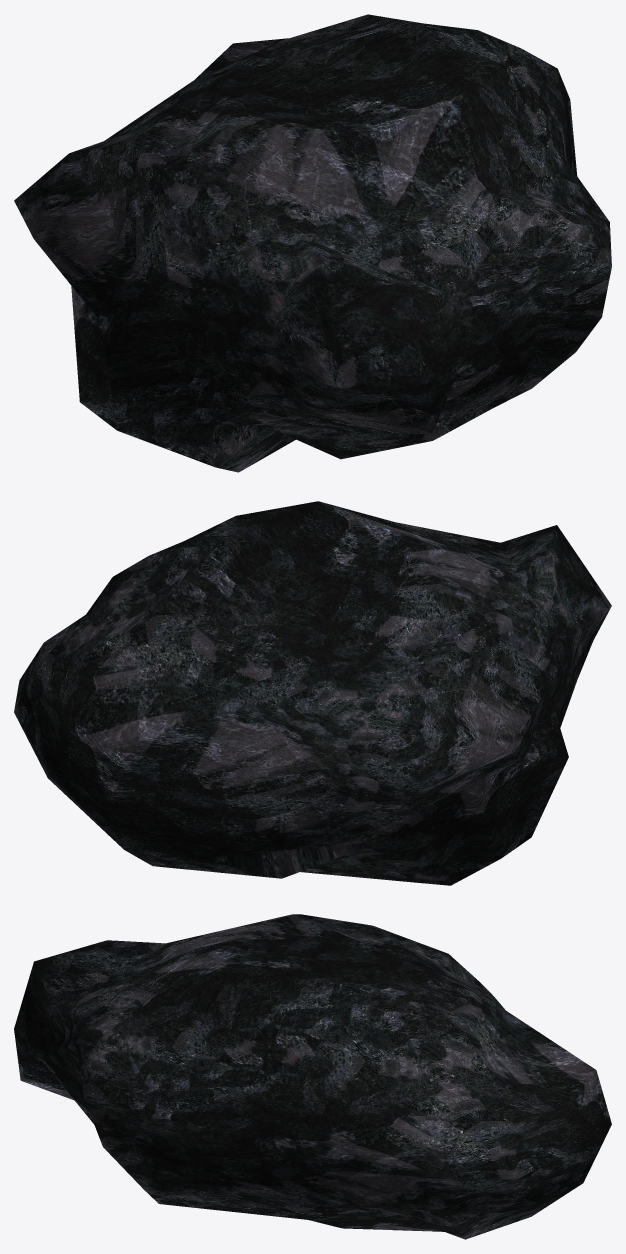
The model's file is asteroid_obsidian_small_s01_l1.fbx.
The picture shows the model from 3 angles, top to bottom: view 1: azimuth 30°, elevation 25°; view 2: azimuth 150°, elevation 25°; view 3: azimuth 270°, elevation 25°; orthographic projection. The views are drawn at different scales.
Visible parts, largest first — view 1: mesh_node; view 2: mesh_node; view 3: mesh_node.
Boxes of the visible parts, bbox=[...] form: mesh_node: bbox=[14, 14, 611, 472]; mesh_node: bbox=[14, 501, 611, 885]; mesh_node: bbox=[14, 914, 611, 1239].
Size of the model in its own units: 29.27 by 19.56 by 34.53.
